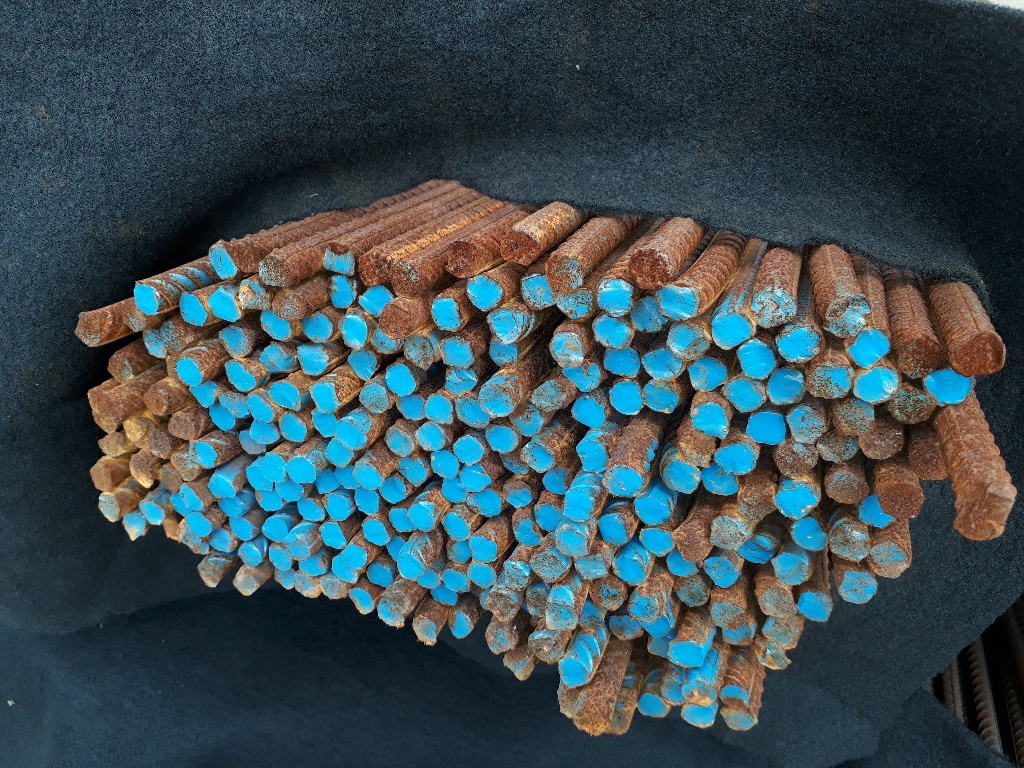dipstick: (960, 488, 1013, 539), (956, 334, 1005, 374), (899, 341, 944, 378), (779, 327, 825, 363), (827, 294, 867, 335), (909, 441, 948, 481), (711, 313, 754, 349), (776, 483, 819, 519), (752, 292, 796, 327), (849, 330, 889, 368), (891, 389, 937, 422), (806, 365, 850, 399), (855, 368, 896, 404), (658, 287, 701, 320), (692, 402, 729, 440), (881, 483, 921, 518), (776, 442, 817, 476), (631, 251, 669, 287), (670, 322, 710, 356), (925, 372, 970, 402), (790, 404, 825, 442), (831, 526, 869, 561), (871, 541, 909, 576), (76, 312, 113, 347), (825, 474, 869, 503), (643, 379, 679, 414), (678, 520, 709, 560), (738, 486, 774, 520), (741, 341, 774, 378), (501, 232, 539, 264), (837, 401, 875, 433), (747, 411, 785, 443), (599, 280, 632, 316), (663, 459, 699, 492), (690, 358, 727, 390), (862, 427, 899, 459), (592, 318, 632, 347), (467, 276, 501, 310), (770, 370, 804, 404), (680, 426, 714, 460), (551, 332, 583, 368), (727, 380, 764, 411), (759, 589, 798, 618), (455, 393, 487, 428), (610, 381, 642, 416), (819, 434, 859, 462), (773, 553, 808, 585), (590, 578, 626, 609), (644, 351, 682, 380), (839, 574, 877, 603), (549, 257, 582, 290), (792, 520, 827, 551), (489, 310, 523, 341), (508, 405, 542, 436), (562, 365, 601, 392), (449, 241, 478, 277), (605, 465, 641, 494), (219, 326, 251, 358), (482, 385, 514, 417), (711, 519, 744, 550), (860, 496, 893, 527), (632, 297, 662, 331), (754, 642, 790, 670), (672, 578, 708, 606), (798, 592, 834, 620), (208, 289, 239, 321), (323, 243, 354, 275), (360, 253, 391, 285), (578, 441, 610, 472), (597, 514, 629, 545), (764, 618, 802, 644), (532, 382, 566, 411), (558, 292, 592, 321), (603, 349, 638, 377), (717, 446, 756, 471), (88, 388, 120, 418), (573, 399, 605, 429), (635, 496, 667, 526), (530, 555, 568, 580), (392, 264, 419, 299), (668, 642, 704, 668), (523, 278, 553, 309), (380, 306, 409, 338), (404, 336, 433, 368), (524, 443, 556, 472), (445, 368, 479, 395), (627, 594, 661, 621), (210, 244, 236, 279), (260, 257, 291, 286), (298, 346, 329, 375), (707, 558, 738, 587), (121, 419, 153, 447), (432, 298, 460, 330), (386, 363, 414, 395), (179, 293, 206, 326), (440, 339, 473, 366), (531, 634, 564, 661), (613, 558, 646, 585), (703, 467, 737, 493), (739, 536, 773, 562), (328, 278, 357, 308), (359, 384, 389, 413), (487, 592, 517, 621), (225, 363, 256, 391), (274, 291, 305, 319), (425, 393, 453, 424), (408, 501, 436, 532), (485, 625, 517, 652), (640, 528, 672, 555), (359, 287, 392, 313), (546, 603, 579, 629), (260, 346, 294, 371), (534, 503, 563, 532), (466, 492, 501, 516), (335, 422, 366, 449), (564, 495, 595, 522), (133, 282, 158, 315), (348, 350, 376, 379), (377, 598, 405, 627), (260, 313, 290, 340), (271, 383, 301, 410), (385, 427, 412, 457), (504, 653, 534, 680), (340, 317, 366, 348), (575, 554, 606, 580), (576, 710, 607, 736), (721, 708, 757, 730), (240, 282, 269, 309), (305, 314, 332, 343), (542, 468, 571, 495), (609, 616, 643, 639), (161, 323, 186, 354), (713, 604, 744, 629), (129, 456, 153, 488), (175, 359, 202, 387), (310, 383, 338, 410), (418, 423, 445, 451), (456, 437, 484, 464), (442, 513, 470, 540), (556, 529, 584, 556), (514, 518, 542, 545), (486, 425, 515, 451), (412, 617, 438, 646), (503, 561, 529, 590), (683, 683, 717, 705), (667, 553, 698, 577), (245, 464, 272, 491), (190, 442, 218, 468), (327, 439, 353, 467), (504, 483, 532, 509), (398, 459, 427, 484), (560, 660, 589, 685), (122, 301, 146, 331), (527, 586, 551, 616), (682, 705, 714, 727), (207, 406, 234, 432), (248, 396, 275, 422), (288, 458, 315, 484), (279, 414, 305, 441), (354, 462, 381, 488), (320, 522, 346, 549), (106, 356, 134, 381), (397, 396, 425, 421), (324, 493, 349, 521), (488, 342, 518, 365), (171, 454, 197, 480), (349, 588, 375, 614), (432, 453, 458, 479), (471, 536, 497, 562), (380, 477, 407, 502), (362, 520, 390, 544), (449, 612, 473, 640), (468, 564, 496, 588), (143, 329, 166, 358), (462, 465, 488, 490), (263, 455, 287, 482), (122, 512, 145, 540), (90, 463, 112, 492), (207, 477, 236, 499), (720, 686, 749, 708), (642, 616, 671, 638), (144, 390, 170, 414), (168, 416, 194, 440), (330, 558, 356, 582), (389, 508, 415, 532), (638, 694, 666, 716), (140, 501, 165, 525), (157, 466, 181, 491), (579, 603, 604, 627), (557, 687, 577, 717), (146, 432, 169, 458), (190, 383, 216, 406), (221, 393, 247, 416), (297, 498, 323, 521), (262, 519, 288, 542), (275, 482, 303, 503), (251, 422, 280, 442), (398, 555, 422, 579), (198, 562, 221, 587), (313, 412, 336, 437), (294, 574, 319, 597), (355, 490, 378, 515), (442, 569, 469, 590), (722, 629, 753, 647), (100, 432, 124, 455), (180, 485, 203, 509), (238, 545, 262, 568), (269, 547, 292, 571), (442, 480, 466, 503), (342, 546, 367, 568), (502, 453, 527, 475), (321, 578, 347, 599), (255, 490, 282, 510), (366, 567, 393, 587), (431, 587, 458, 607), (371, 333, 399, 352), (299, 556, 327, 575), (447, 540, 470, 563), (234, 575, 259, 596), (285, 537, 310, 558), (179, 518, 197, 547), (99, 494, 119, 520), (239, 433, 265, 452), (231, 518, 253, 540), (317, 471, 339, 493), (210, 530, 233, 551), (187, 514, 209, 535), (336, 469, 359, 489), (93, 416, 119, 433), (219, 499, 242, 518), (663, 681, 682, 704), (386, 537, 404, 560), (609, 712, 627, 734), (649, 639, 669, 658), (418, 570, 439, 588), (170, 496, 188, 514), (275, 570, 294, 587), (164, 521, 179, 536)
